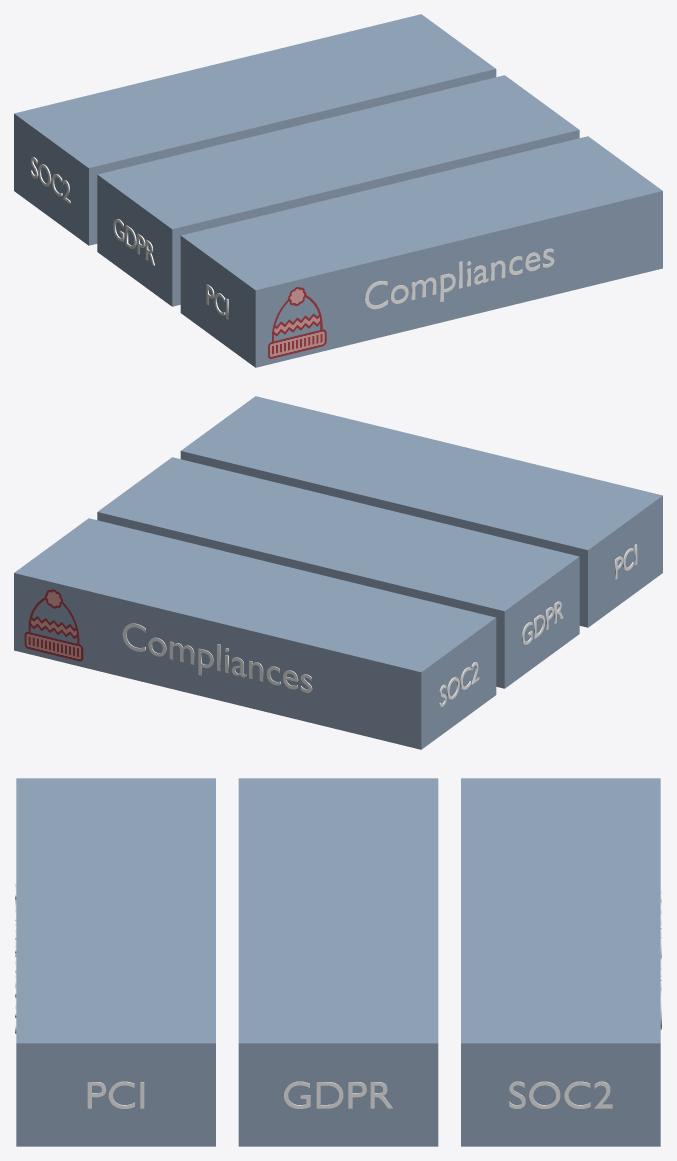
Rendered from block_3.gltf.
3 views of the same model, one above another, from view 1: azimuth 30°, elevation 25°; view 2: azimuth 150°, elevation 25°; view 3: azimuth 270°, elevation 25° (orthographic). The views are drawn at different scales.
Parts seen in each view (by area): view 1: r3_33x3xRot90_1, r3_33x3xRot90_2, r3_33x3xRot90_3; view 2: r3_33x3xRot90_3, r3_33x3xRot90_2, r3_33x3xRot90_1; view 3: r3_33x3xRot90_2, r3_33x3xRot90_1, r3_33x3xRot90_3.
Part boxes in pixels (x1=…): r3_33x3xRot90_1: x1=180, y1=136, x2=662, y2=367; r3_33x3xRot90_2: x1=97, y1=75, x2=579, y2=306; r3_33x3xRot90_3: x1=14, y1=14, x2=496, y2=245; r3_33x3xRot90_3: x1=14, y1=518, x2=496, y2=749; r3_33x3xRot90_2: x1=97, y1=457, x2=579, y2=688; r3_33x3xRot90_1: x1=180, y1=396, x2=662, y2=627; r3_33x3xRot90_2: x1=238, y1=778, x2=438, y2=1146; r3_33x3xRot90_1: x1=15, y1=778, x2=215, y2=1146; r3_33x3xRot90_3: x1=461, y1=778, x2=661, y2=1146.
Bounding box in the file's own units: 0.1105 × 0.02 × 0.1138.
3 materials, 1 textured.
